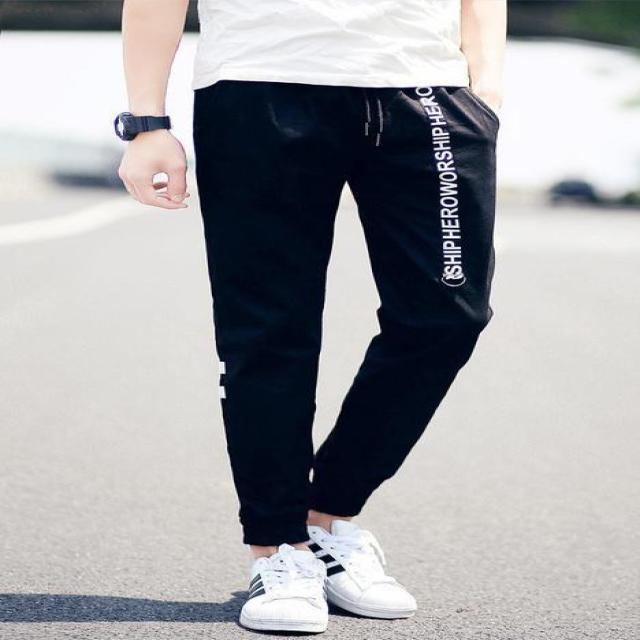short sleeve top: (198, 2, 468, 90)
trousers: (196, 54, 495, 545)
